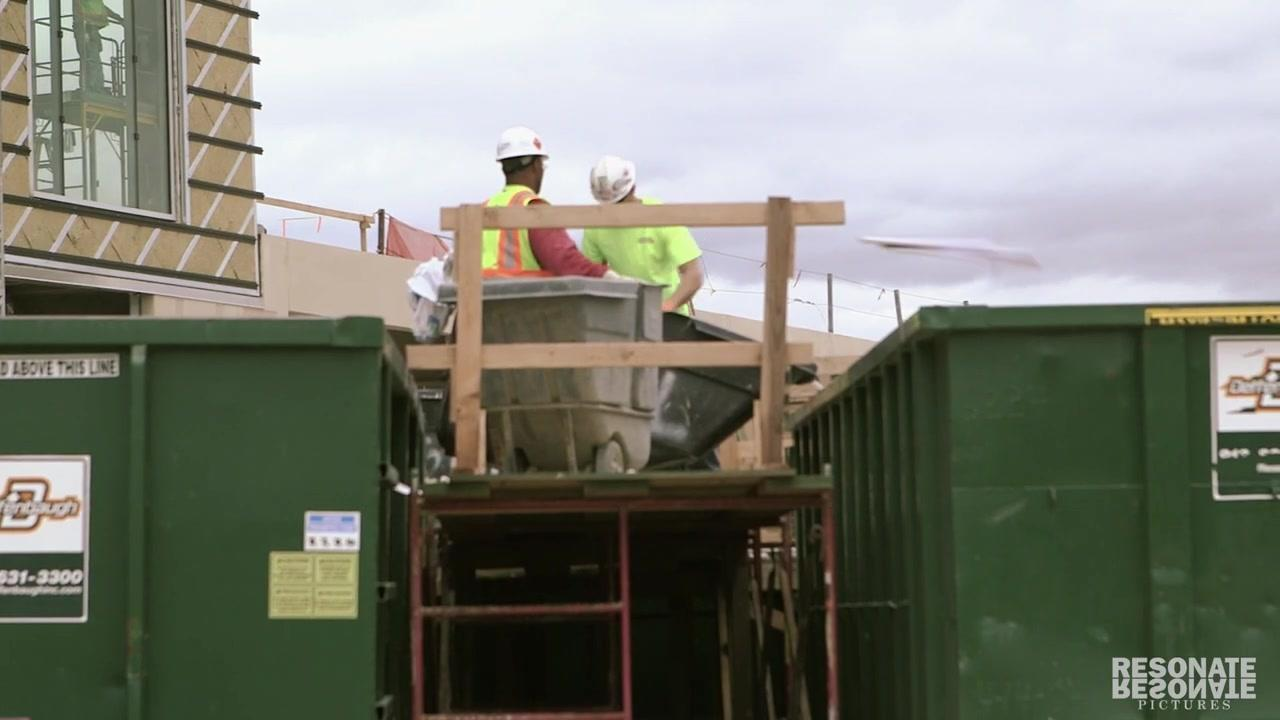vest: (474, 186, 561, 273)
